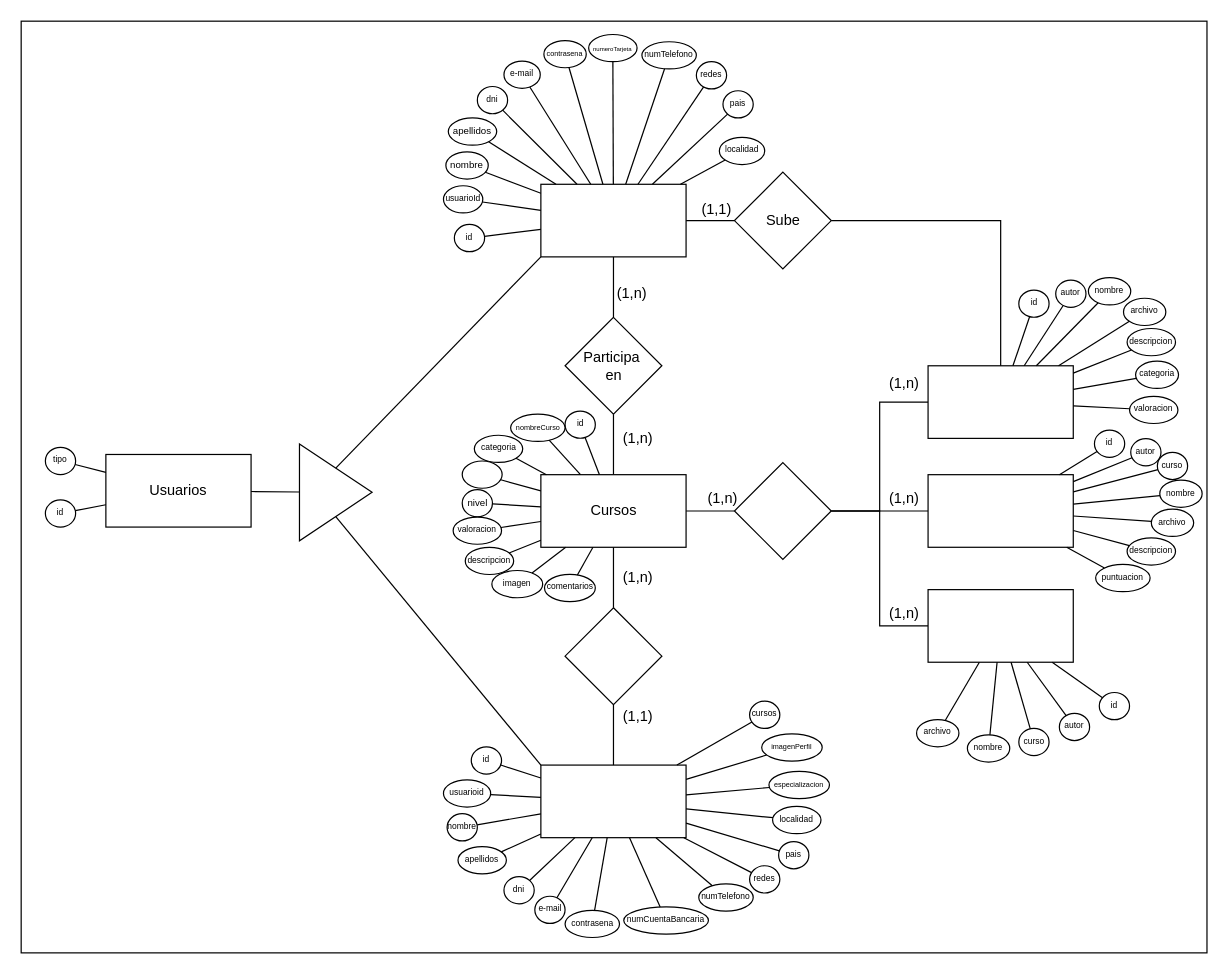
The diagram is 1228 pixels wide and 974 high, and some of its shapes have lost their labels. Each missing label, with the box of its shape:
Alumnos: (540, 183, 686, 257)
Apuntes: (927, 365, 1073, 438)
Crea: (564, 607, 662, 705)
Ejercicios: (927, 473, 1073, 547)
Es un: (298, 443, 372, 541)
profesor: (461, 460, 502, 488)
Profesores: (540, 764, 686, 838)
Tiene: (733, 461, 831, 559)
Vídeos: (927, 588, 1073, 662)
